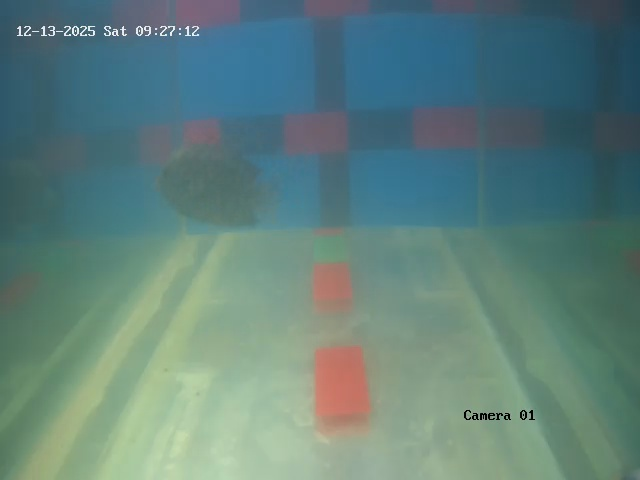fish: (151, 139, 276, 236)
